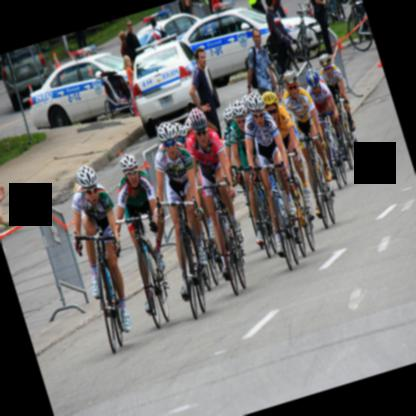backpack: (244, 56, 257, 88)
